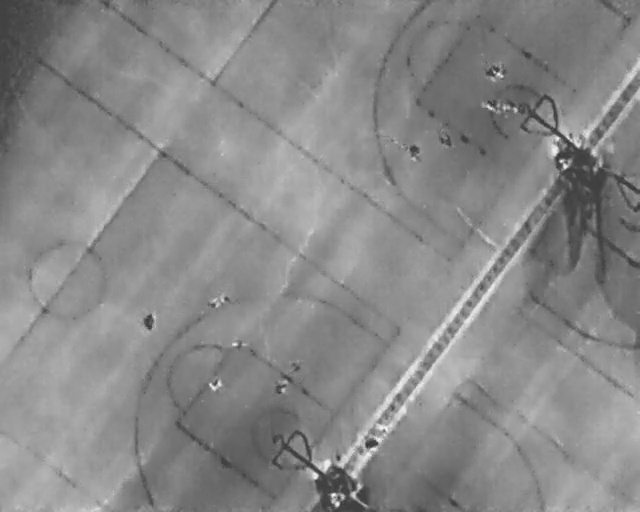Person: (205, 291, 231, 314), (435, 128, 455, 151), (479, 96, 502, 116), (500, 95, 522, 115), (330, 450, 352, 469), (485, 61, 506, 80), (361, 435, 381, 452), (204, 376, 225, 392), (270, 378, 288, 396), (142, 312, 156, 332), (328, 492, 345, 507), (231, 338, 250, 351), (407, 143, 421, 160)
